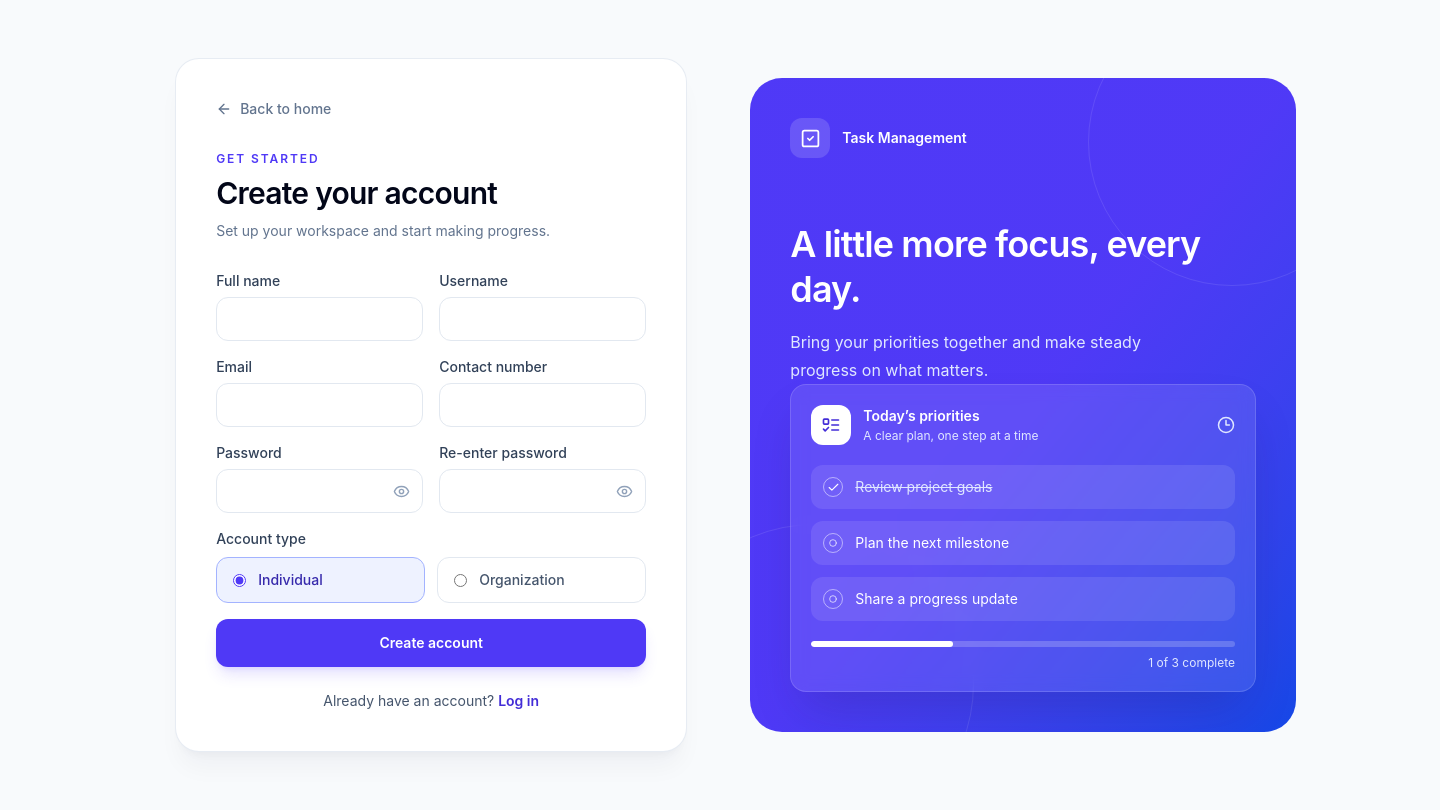
authentication routes › shows organization name only when organization account type is selected
expect the heading "Create your account" is shown: met, box [216,175,497,211]
expect the field labelled "organization name" is not shown: met
Click the radio button labelled "Organization".
click(461, 580)  # box [454,574,467,586]
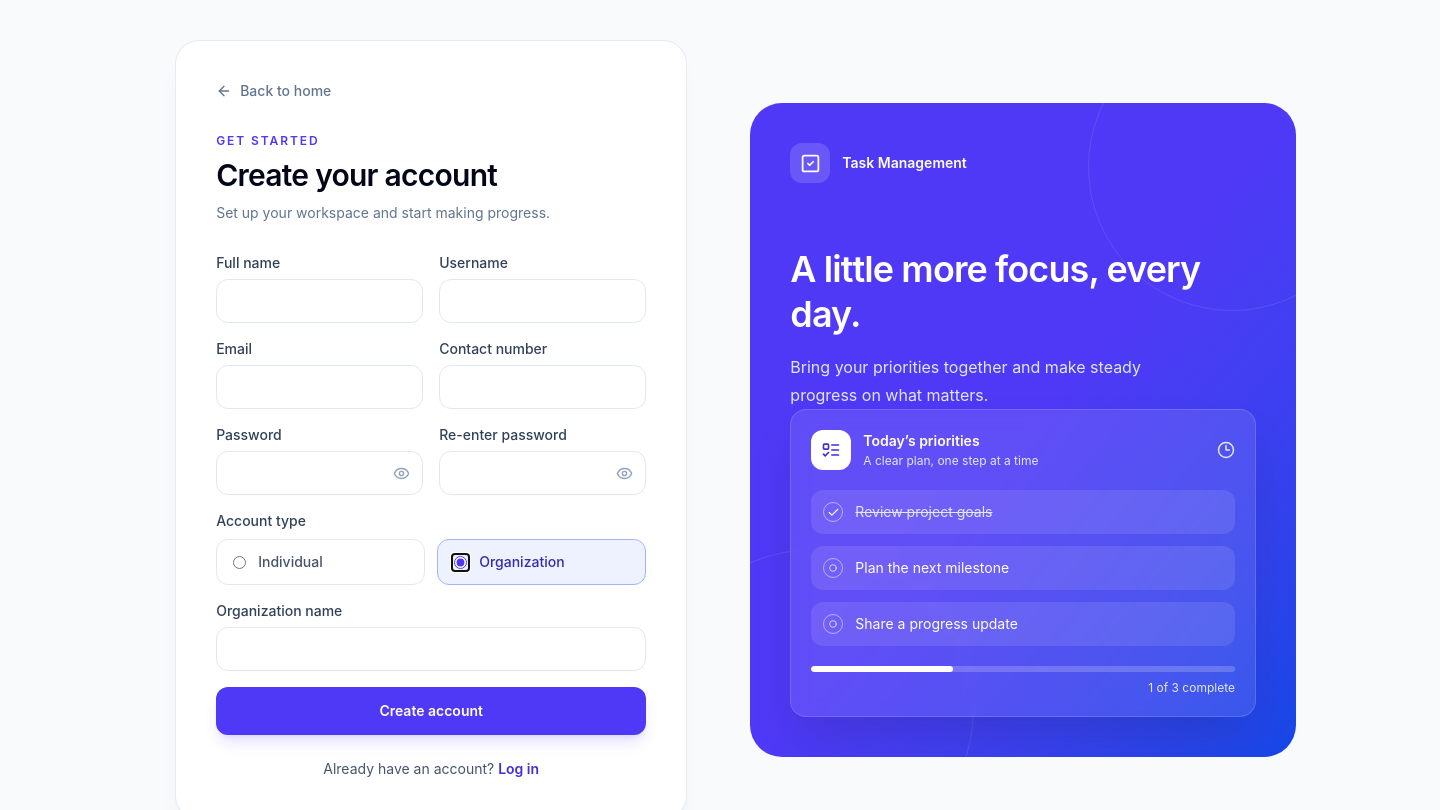
expect the field labelled "Organization name" is shown: met, box [216,627,646,671]
